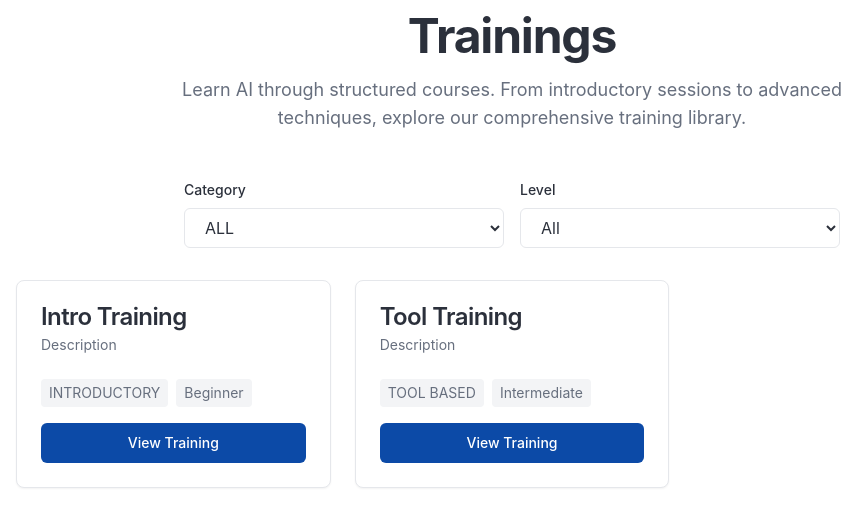
Test: Training Page › Filtering › should filter trainings by category
expect the text "Intro Training" is shown: met, box [41,302,187,331]
expect the text "Tool Training" is shown: met, box [380,302,522,331]
// Find and interact with category filter
Select "TOOL BASED" in the dropdown labelled "Category" at (344, 228), box [184,208,504,248]
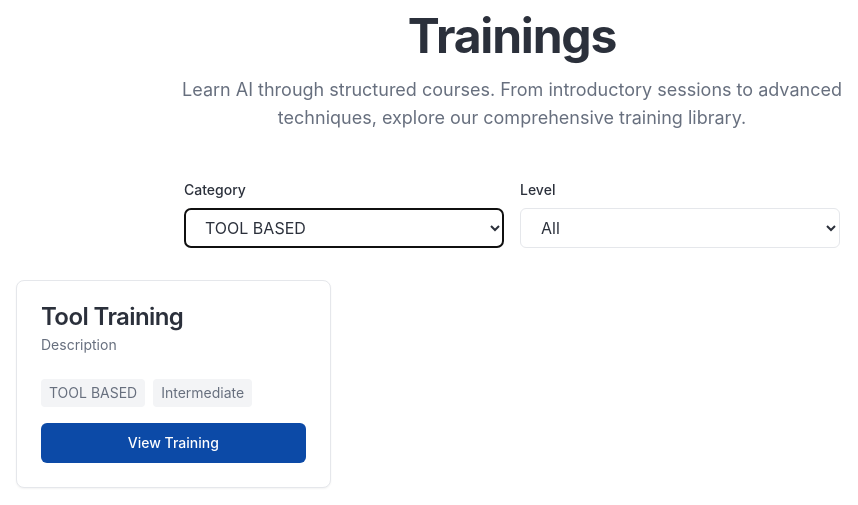
expect the text "Tool Training" is shown: met, box [41,302,183,331]
expect the text "Intro Training" is gone: met
